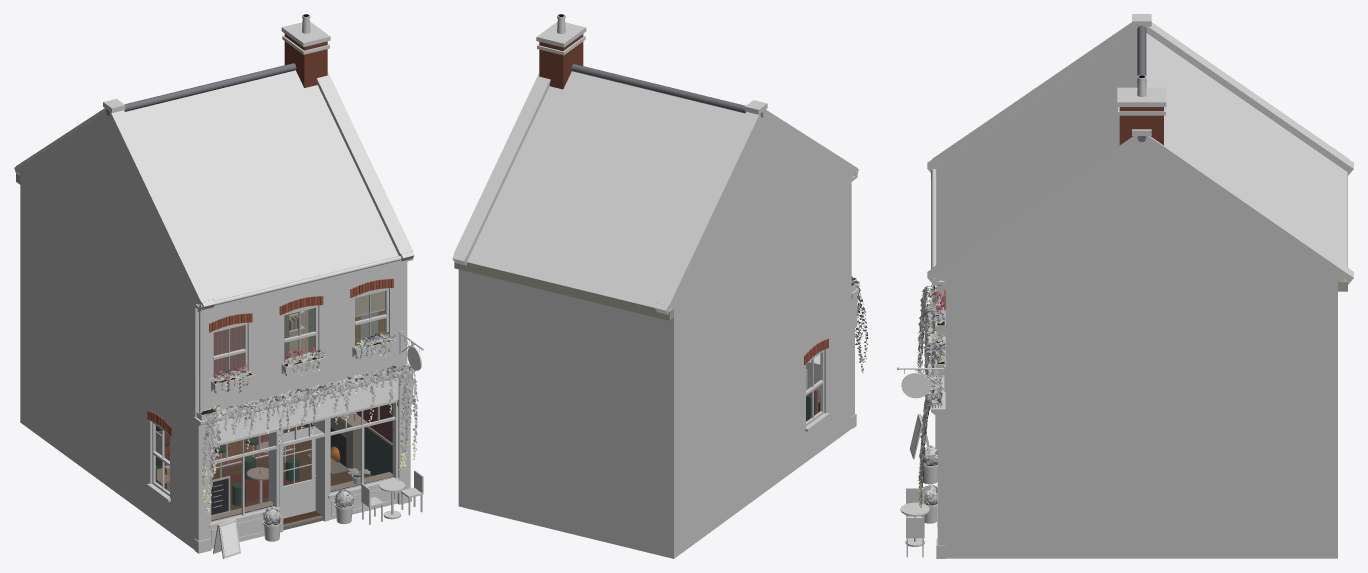
Rendered from LibraryRow_Neighbor3.glb.
The picture shows the model from 3 angles, left to right: view 1: azimuth 30°, elevation 25°; view 2: azimuth 150°, elevation 25°; view 3: azimuth 270°, elevation 25°; orthographic projection. The views are drawn at different scales.
Visible parts, largest first — view 1: LibraryRow_Neighbor3; view 2: LibraryRow_Neighbor3; view 3: LibraryRow_Neighbor3.
Part boxes in pixels (bbox=[...]): LibraryRow_Neighbor3: bbox=[14, 14, 423, 558]; LibraryRow_Neighbor3: bbox=[452, 14, 868, 558]; LibraryRow_Neighbor3: bbox=[897, 14, 1353, 558].
Size of what is drawn, in the model's own units: 5.79 by 10.67 by 9.31.
